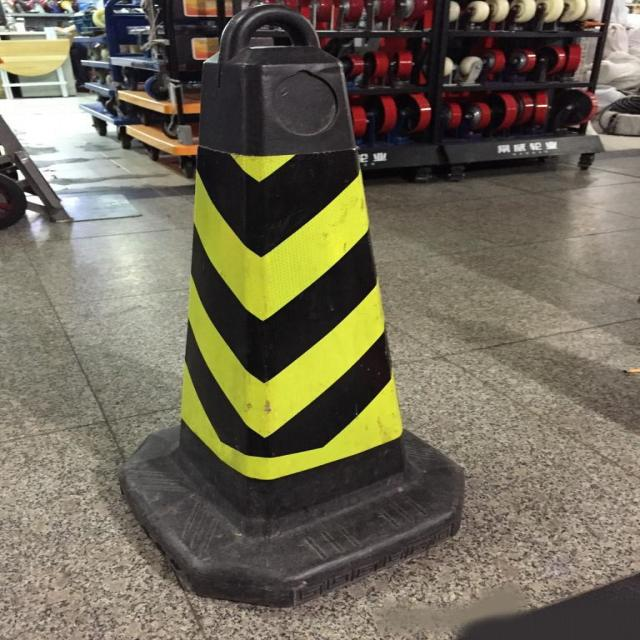reflective_cone: (121, 5, 464, 590)
